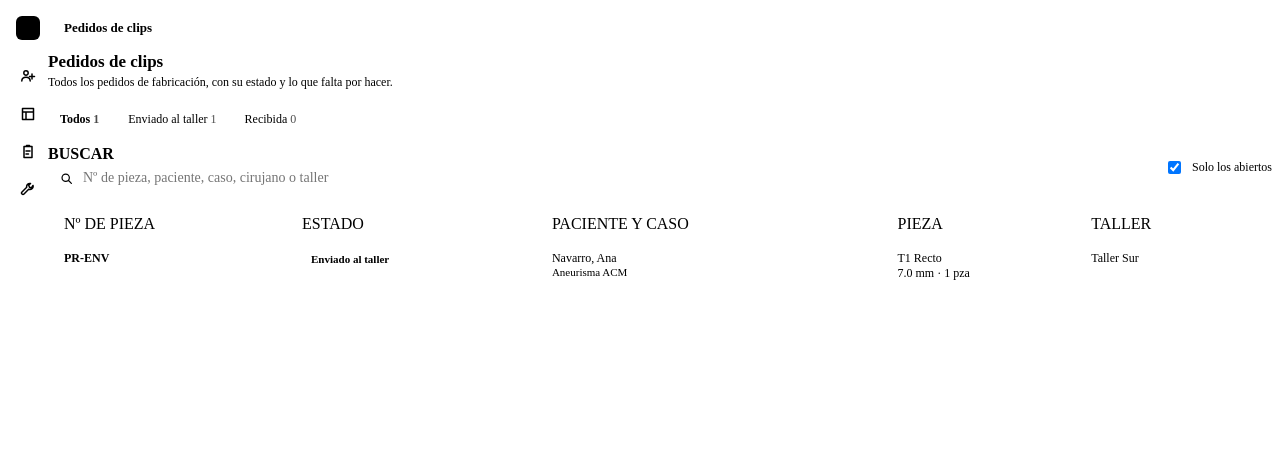
it: the actions on a received piece › still offers the real next step on an order in transit
Click the text "PR-ENV".
click(87, 258)  # box x1=64 y1=241 x2=302 y2=291
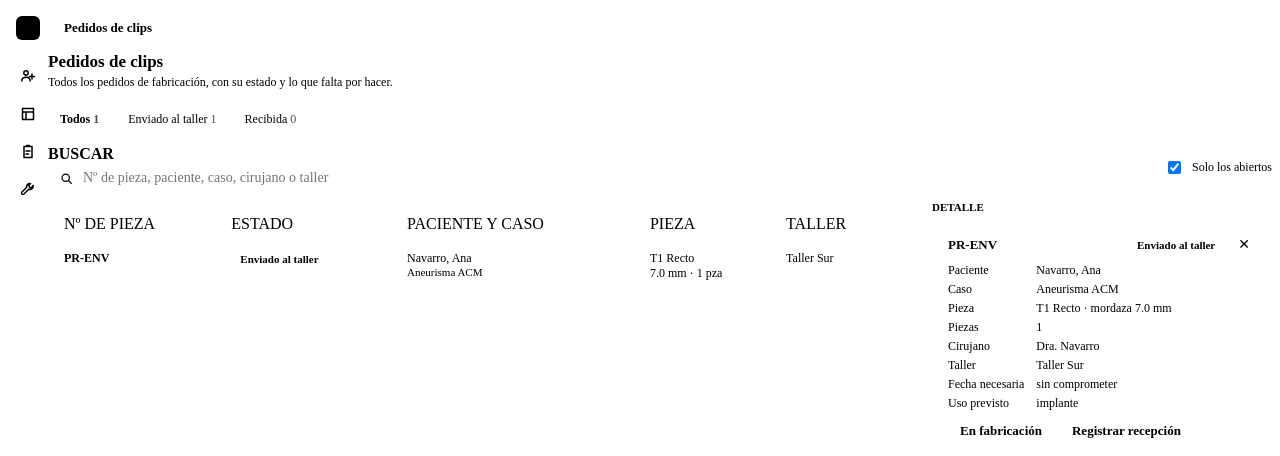
Expected: the button "En fabricación" is shown, x1=948 y1=423 x2=1054 y2=439
Expected: the button "Registrar recepción" is shown, x1=1060 y1=423 x2=1193 y2=439
